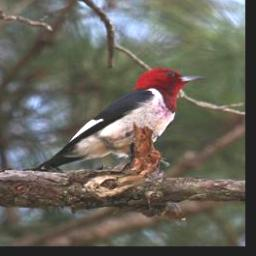Woodpecker: (21, 66, 209, 172)
